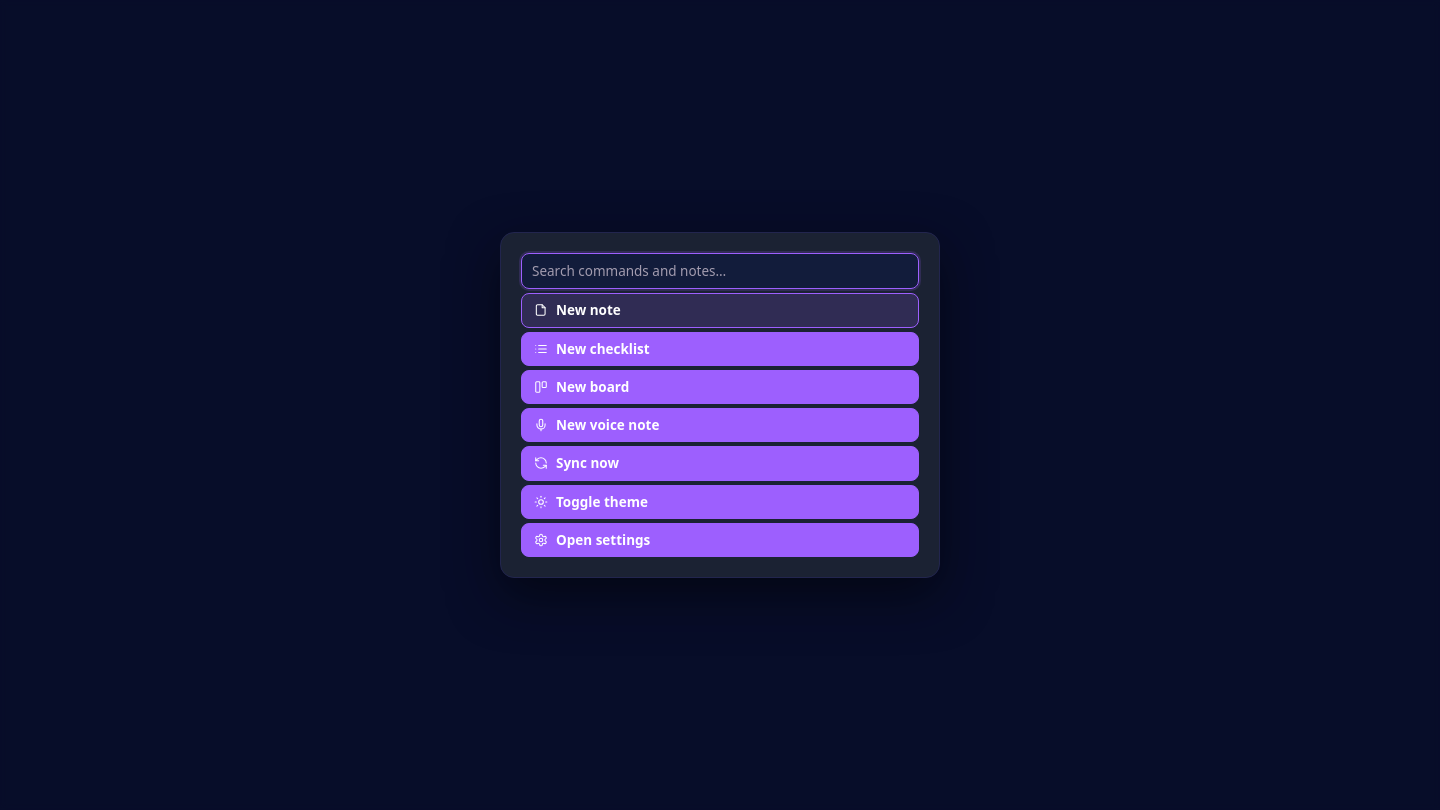
Test: CommandBar — commands › typing filters commands AND debounces search results below them
Type "note" into the field with placeholder "Search commands and notes…" at [720, 271], box [521,253,919,289]
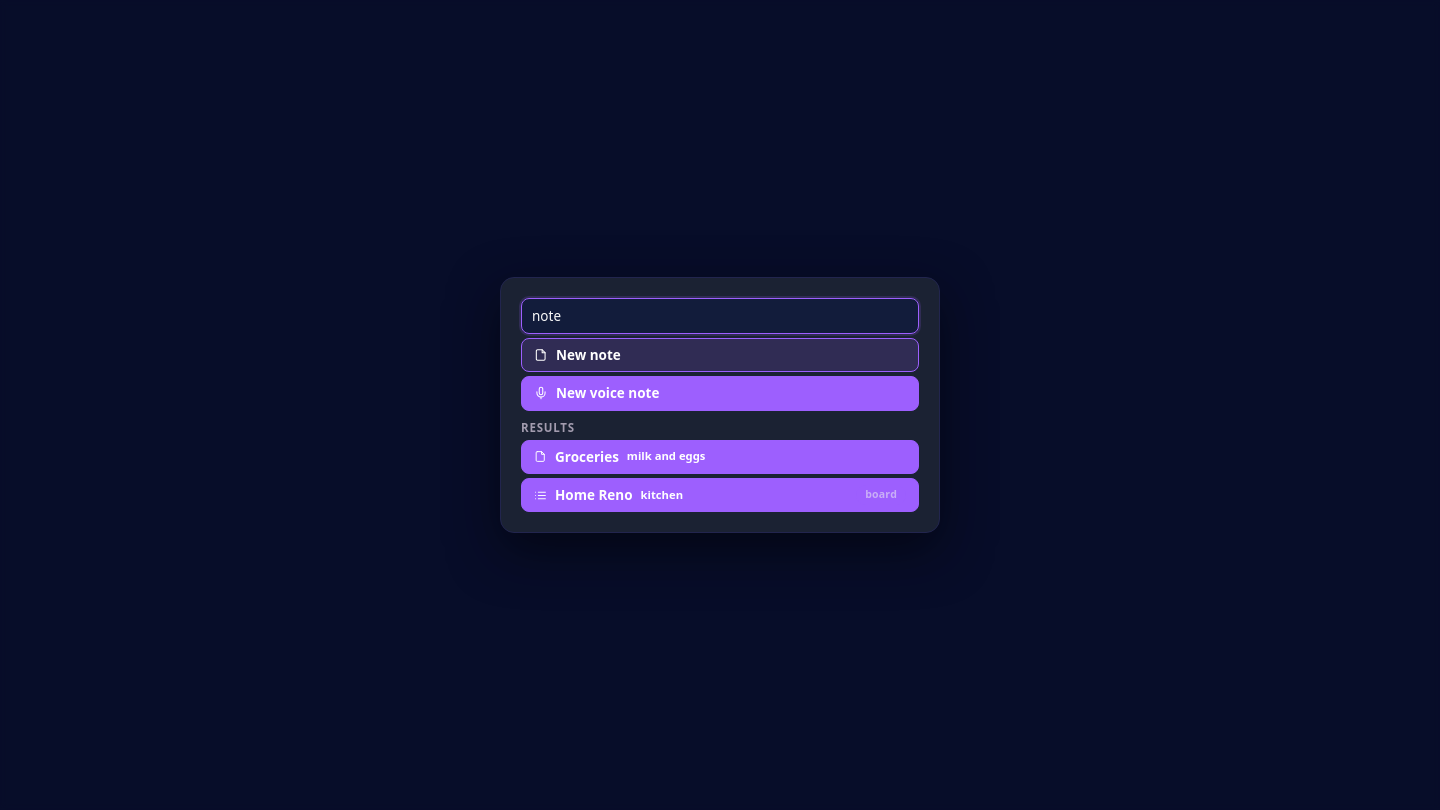
Check: the text "New note" is shown, box [556,345,621,365]
Check: the text "Groceries" is shown, box [555,447,619,467]
Check: the button "Open settings" is gone
